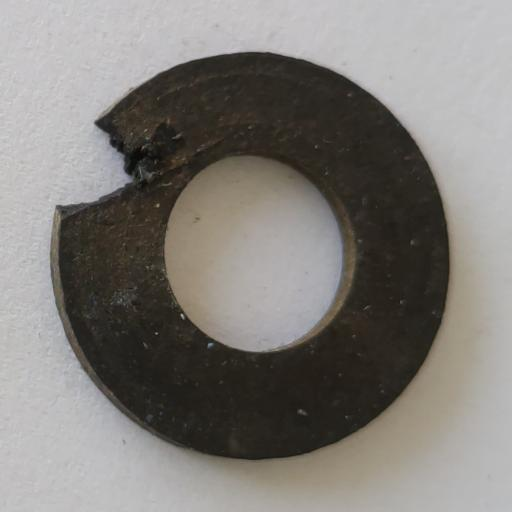defect: (55, 119, 148, 220)
